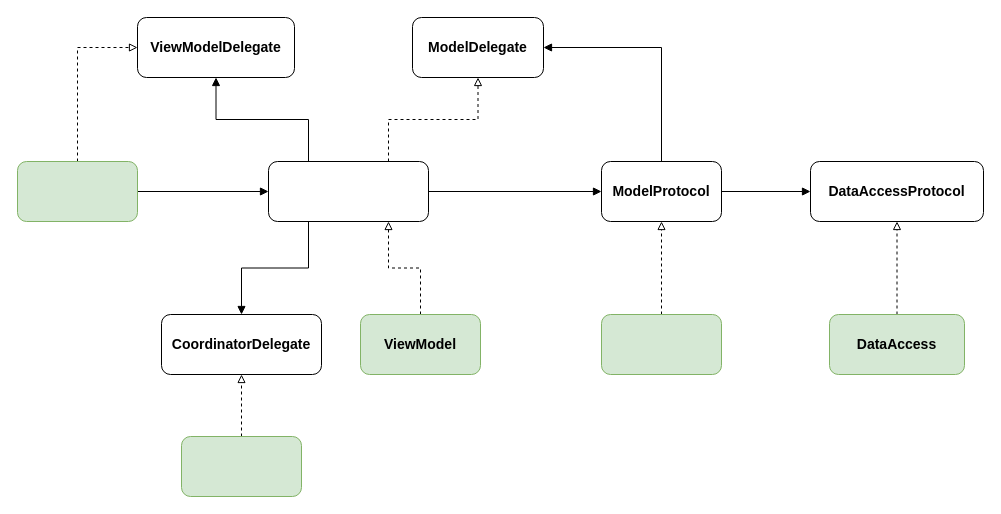
Image size: 1001x514. Some labels were removed from this diagram. The box of each missing label's shape, as (x1, y1, x2, y2) in pixels:
Coordinator: (180, 436, 302, 496)
Model: (600, 314, 722, 374)
View: (16, 160, 138, 222)
ViewModelProtocol: (268, 160, 428, 222)
